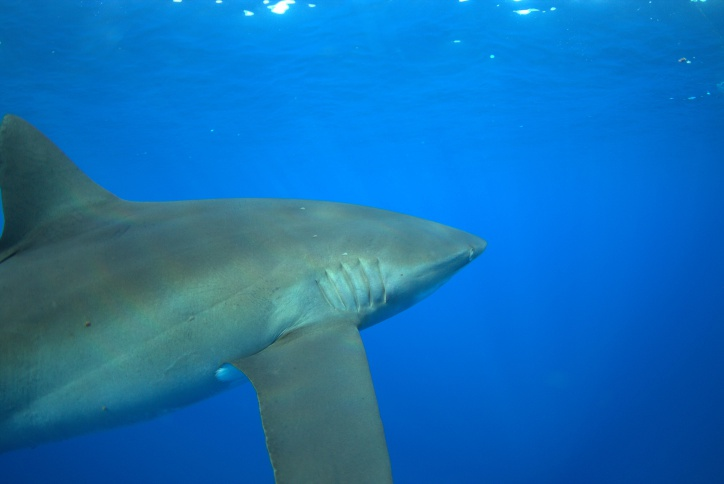Sedoso: (1, 90, 524, 484)
